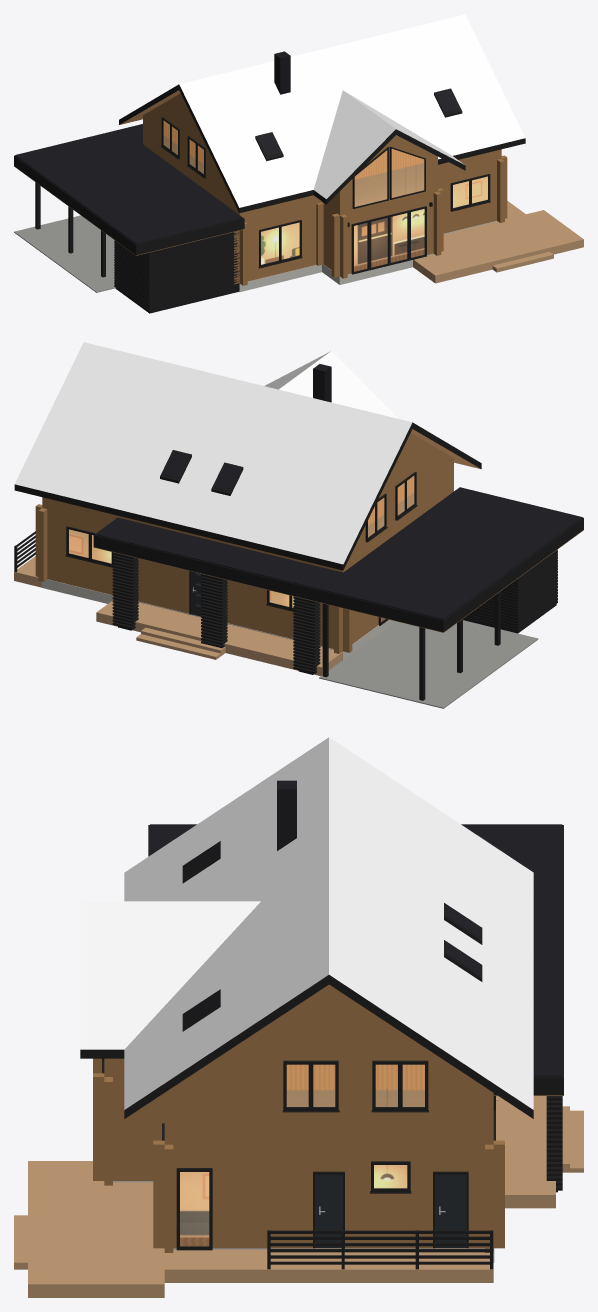
Rendered from juno255_c0_p0_m0.glb.
The picture shows the model from 3 angles, top to bottom: view 1: azimuth 30°, elevation 25°; view 2: azimuth 150°, elevation 25°; view 3: azimuth 270°, elevation 25°; orthographic projection. The views are drawn at different scales.
Visible parts, largest first — view 1: roof, metal, wall, fascia, room, glass, deck, frame, paving, plinth, soffit; view 2: roof, metal, fascia, wall, paving, deck, frame, room, glass, plinth, soffit, door; view 3: roof, wall, deck, metal, fascia, room, glass, frame, door.
Part boxes in pixels (left/top/right/bottom): roof: left=179, top=14, right=525, bottom=207; metal: left=15, top=51, right=459, bottom=313; wall: left=143, top=93, right=507, bottom=285; fascia: left=14, top=84, right=525, bottom=311; room: left=163, top=120, right=487, bottom=271; glass: left=164, top=121, right=487, bottom=271; deck: left=413, top=201, right=583, bottom=283; frame: left=161, top=88, right=490, bottom=274; paving: left=14, top=215, right=115, bottom=292; plinth: left=239, top=221, right=497, bottom=291; soffit: left=14, top=90, right=244, bottom=255; roof: left=15, top=342, right=412, bottom=564; metal: left=95, top=364, right=582, bottom=674; fascia: left=14, top=422, right=583, bottom=700; wall: left=35, top=433, right=453, bottom=653; paving: left=319, top=620, right=538, bottom=708; deck: left=14, top=556, right=342, bottom=676; frame: left=65, top=450, right=417, bottom=625; room: left=69, top=476, right=414, bottom=621; glass: left=69, top=476, right=413, bottom=621; plinth: left=41, top=579, right=395, bottom=659; soffit: left=93, top=429, right=583, bottom=632; door: left=190, top=571, right=202, bottom=616; roof: left=80, top=737, right=533, bottom=1109; wall: left=93, top=984, right=504, bottom=1252; deck: left=14, top=1096, right=583, bottom=1297; metal: left=150, top=780, right=562, bottom=1192; fascia: left=80, top=825, right=563, bottom=1269; room: left=180, top=1064, right=424, bottom=1246; glass: left=180, top=1065, right=424, bottom=1245; frame: left=102, top=841, right=495, bottom=1250; door: left=315, top=1174, right=466, bottom=1247.
Size of the model in its own units: 20.17 by 8.96 by 14.2.
Materials: 15 (5 with a texture image).
